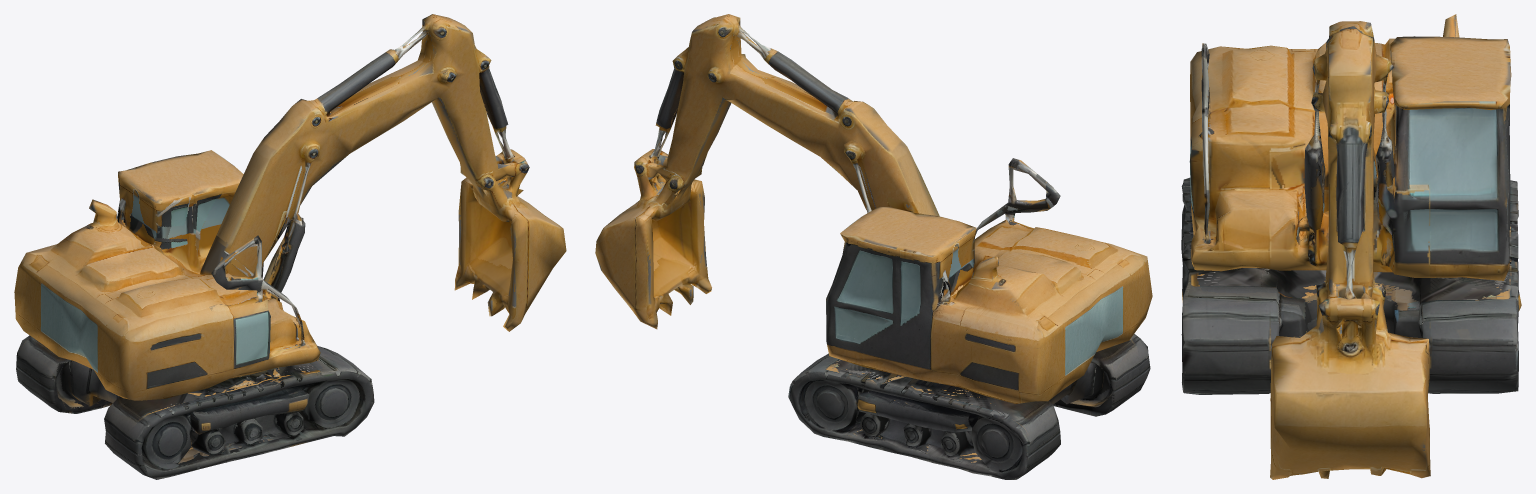
Rendered from Prop_Excavator.fbx.
3 views of the same model, side by side, from view 1: azimuth 30°, elevation 25°; view 2: azimuth 150°, elevation 25°; view 3: azimuth 270°, elevation 25° (orthographic). The views are drawn at different scales.
Parts seen in each view (by area): view 1: texture_mapping; view 2: texture_mapping; view 3: texture_mapping.
Boxes of the visible parts, x1=… form: texture_mapping: x1=14, y1=14, x2=566, y2=479; texture_mapping: x1=595, y1=14, x2=1152, y2=479; texture_mapping: x1=1181, y1=14, x2=1521, y2=479.
Size of the model in its own units: 100 by 68.9 by 45.65.
1 material, 1 textured.
